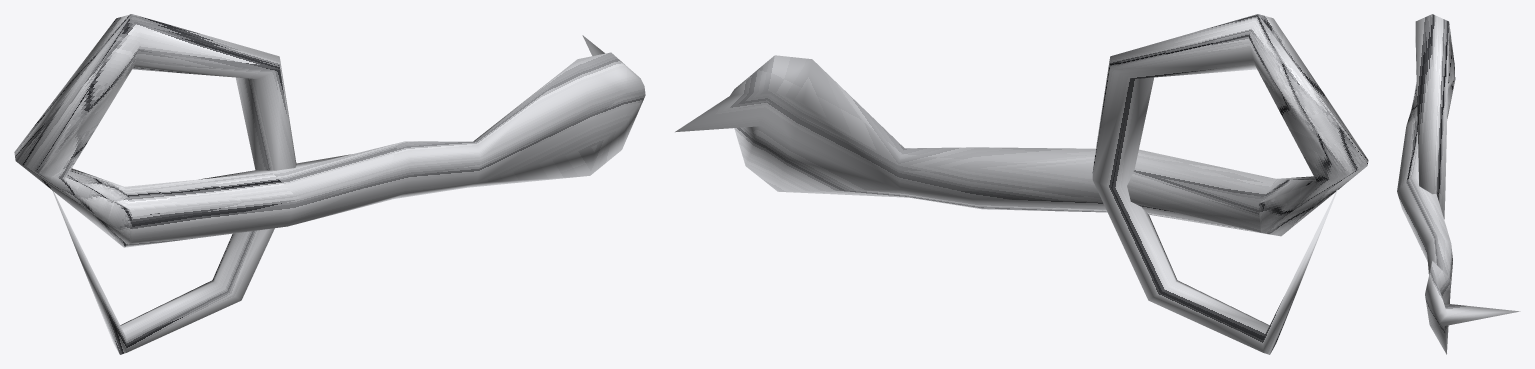
The model's file is snake_000100.obj.
3 renders of one model, left to right at view 1: azimuth 30°, elevation 25°; view 2: azimuth 150°, elevation 25°; view 3: azimuth 270°, elevation 25°, orthographic. The views are drawn at different scales.
Parts seen in each view (by area): view 1: Cylinder; view 2: Cylinder; view 3: Cylinder.
Part boxes in pixels (bbox=[...]): Cylinder: bbox=[14, 14, 645, 354]; Cylinder: bbox=[675, 14, 1368, 354]; Cylinder: bbox=[1397, 14, 1520, 354].
Bounding box in the file's own units: 4.78 × 2.44 × 1.22.
